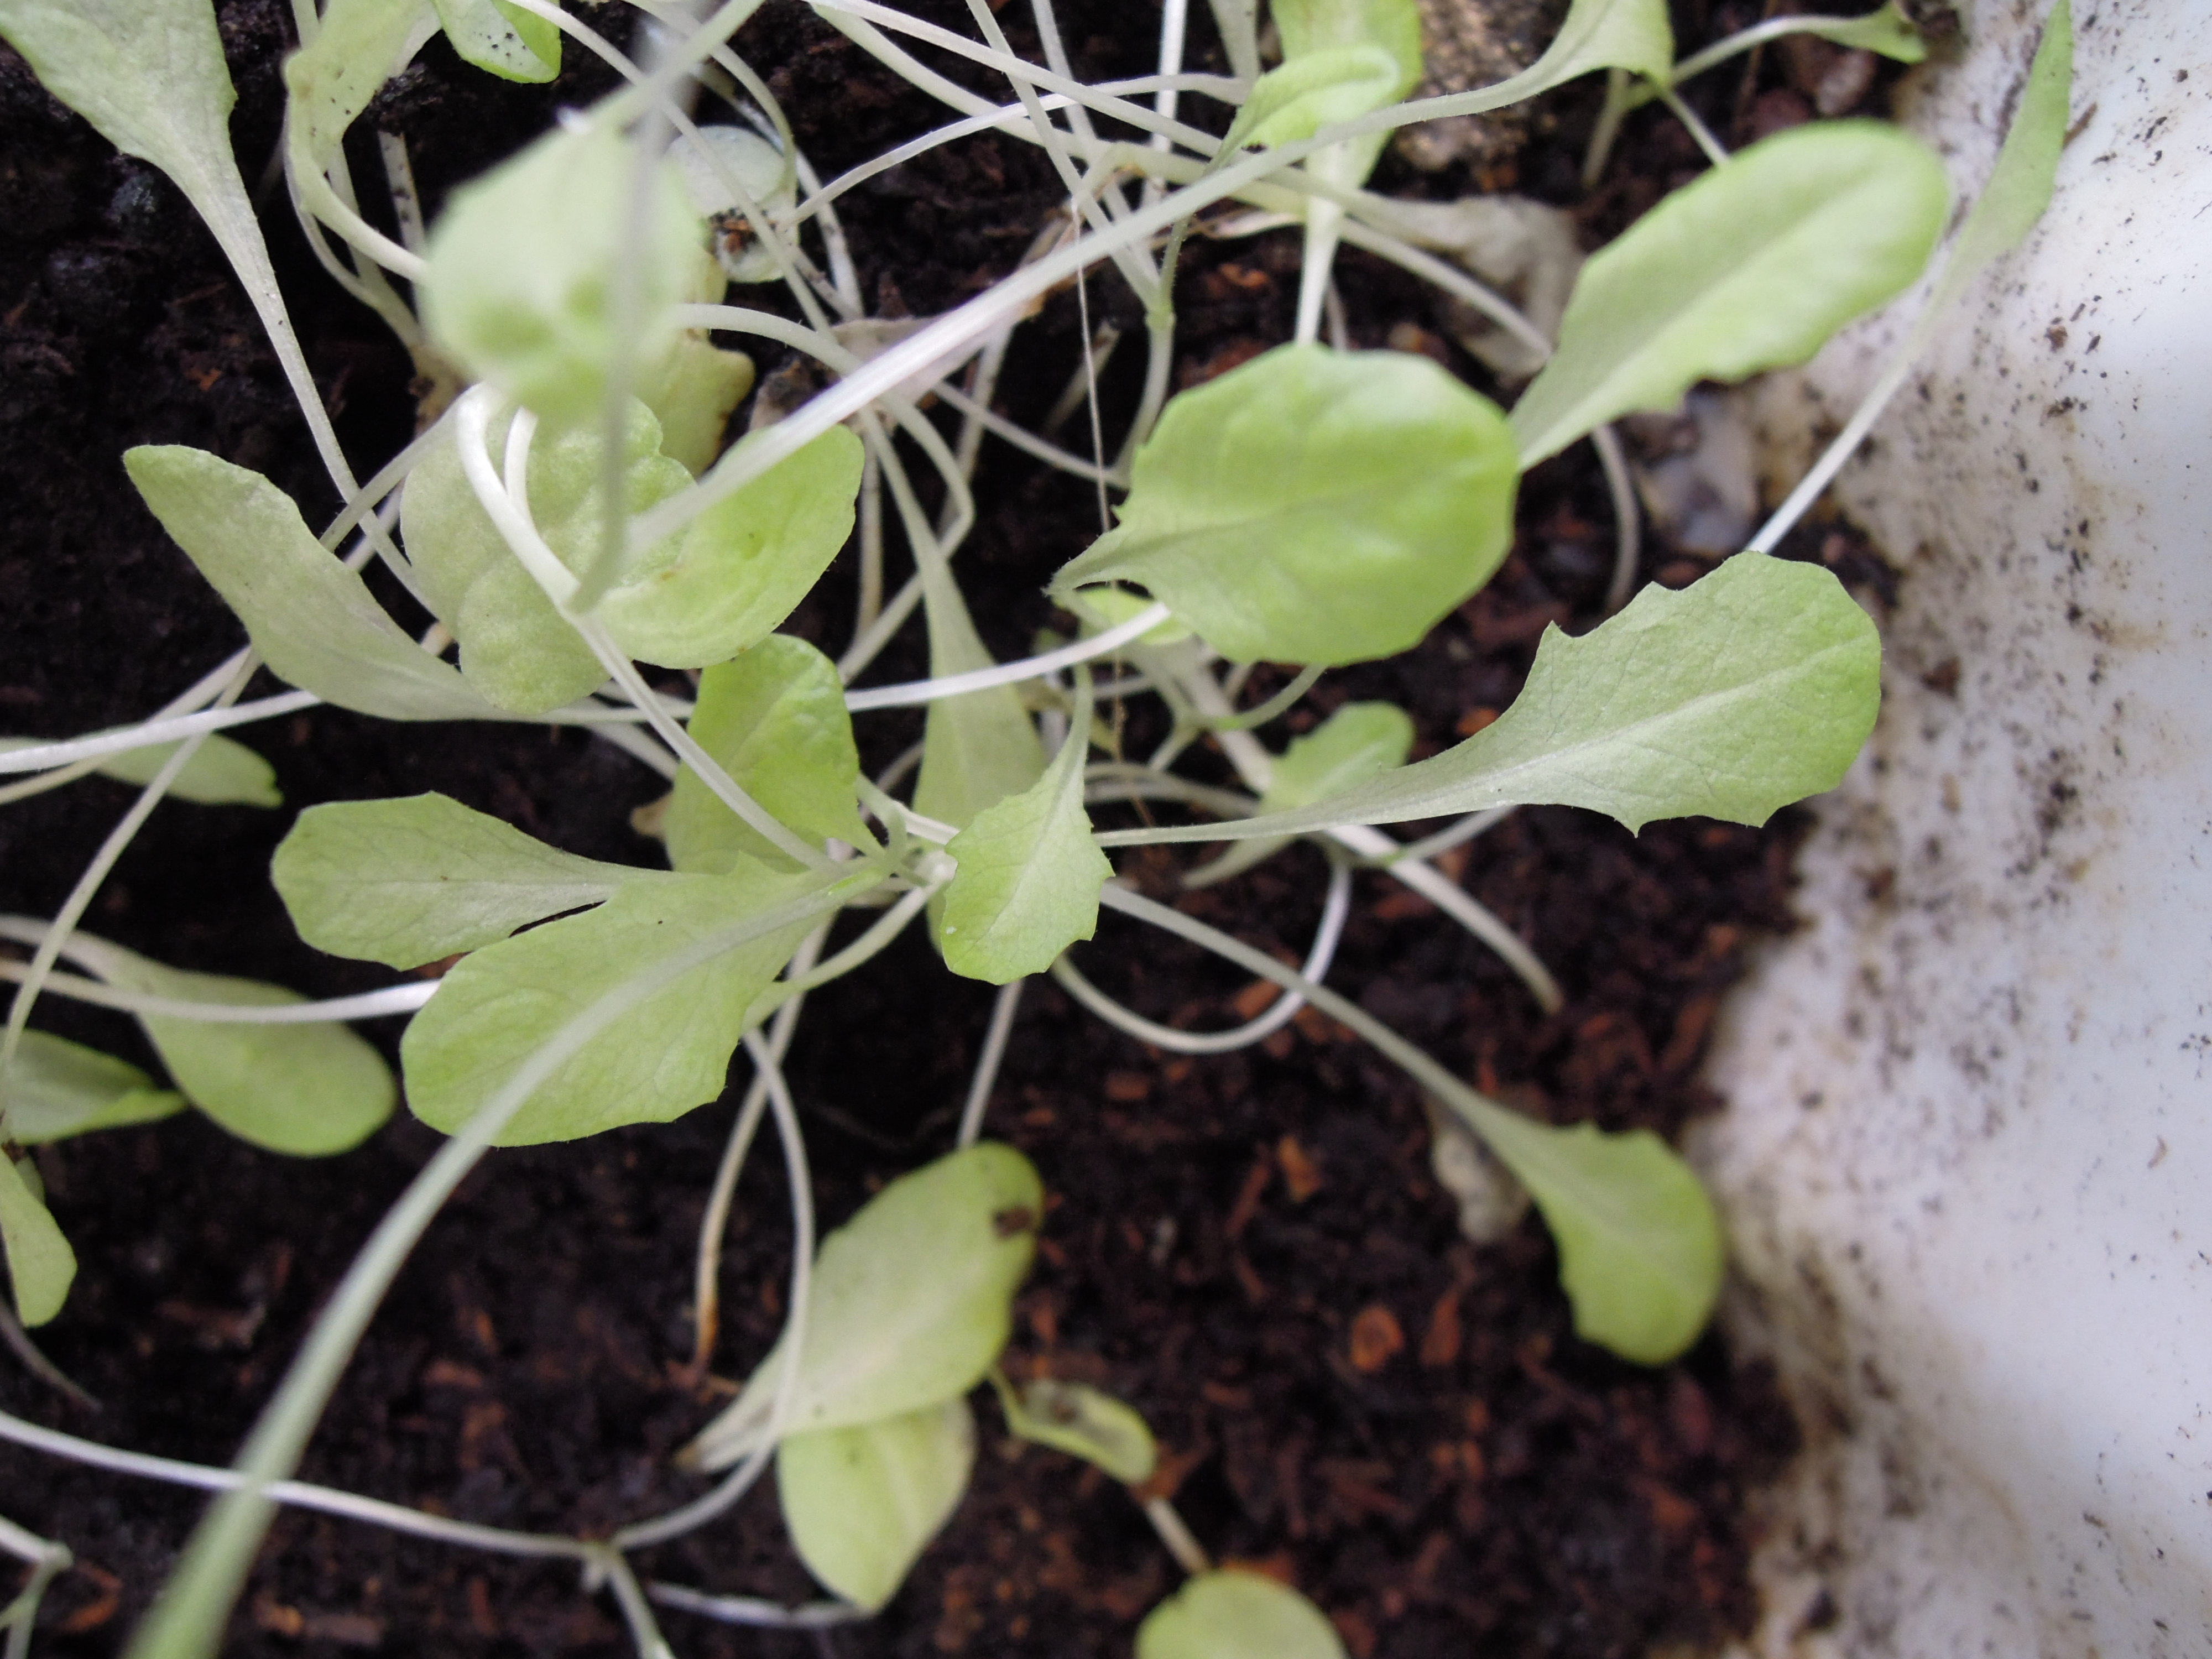weeek6: (395, 7, 2024, 1303)
